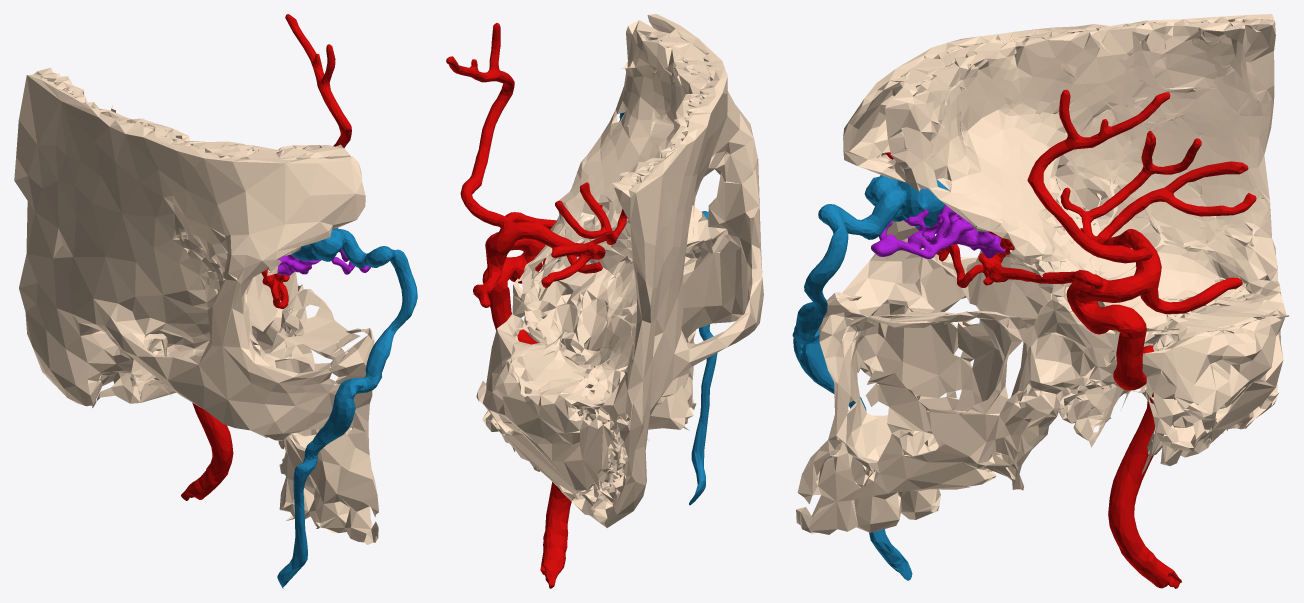
Rendered from Orbit AVM.fbx.
3 views of the same model, side by side, from view 1: azimuth 30°, elevation 25°; view 2: azimuth 150°, elevation 25°; view 3: azimuth 270°, elevation 25° (orthographic). The views are drawn at different scales.
Parts seen in each view (by area): view 1: bone_small, vein, artery, avm; view 2: bone_small, artery, vein; view 3: bone_small, artery, vein, avm.
Boxes of the visible parts, x1,y1,x2,y2 form: bone_small: (14, 67, 378, 544); vein: (277, 228, 417, 588); artery: (181, 14, 351, 500); avm: (277, 249, 370, 275); bone_small: (476, 14, 763, 527); artery: (446, 23, 627, 588); vein: (619, 112, 717, 505); bone_small: (796, 14, 1289, 534); artery: (885, 89, 1256, 588); vein: (792, 175, 949, 580); avm: (871, 205, 1005, 258).
Bounding box in the file's own units: 7262 × 13360 × 10809.
